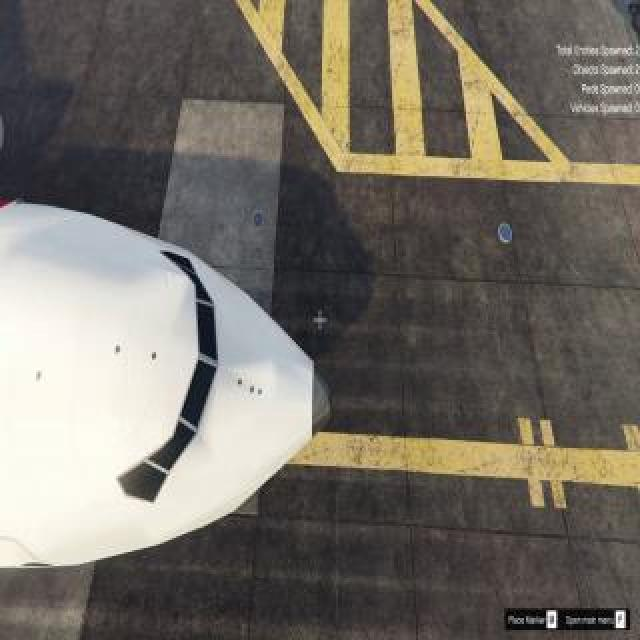crack: (151, 348, 159, 362), (235, 377, 245, 387), (35, 369, 43, 381), (115, 343, 121, 355), (249, 383, 255, 395), (258, 387, 262, 397)
